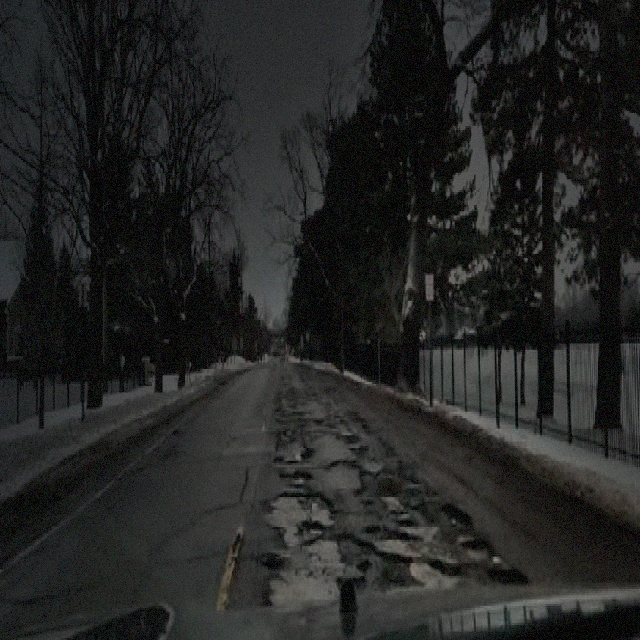pothole: (487, 559, 527, 591), (441, 497, 472, 531), (362, 520, 412, 538), (337, 578, 358, 608), (278, 465, 310, 484), (300, 516, 324, 538)
